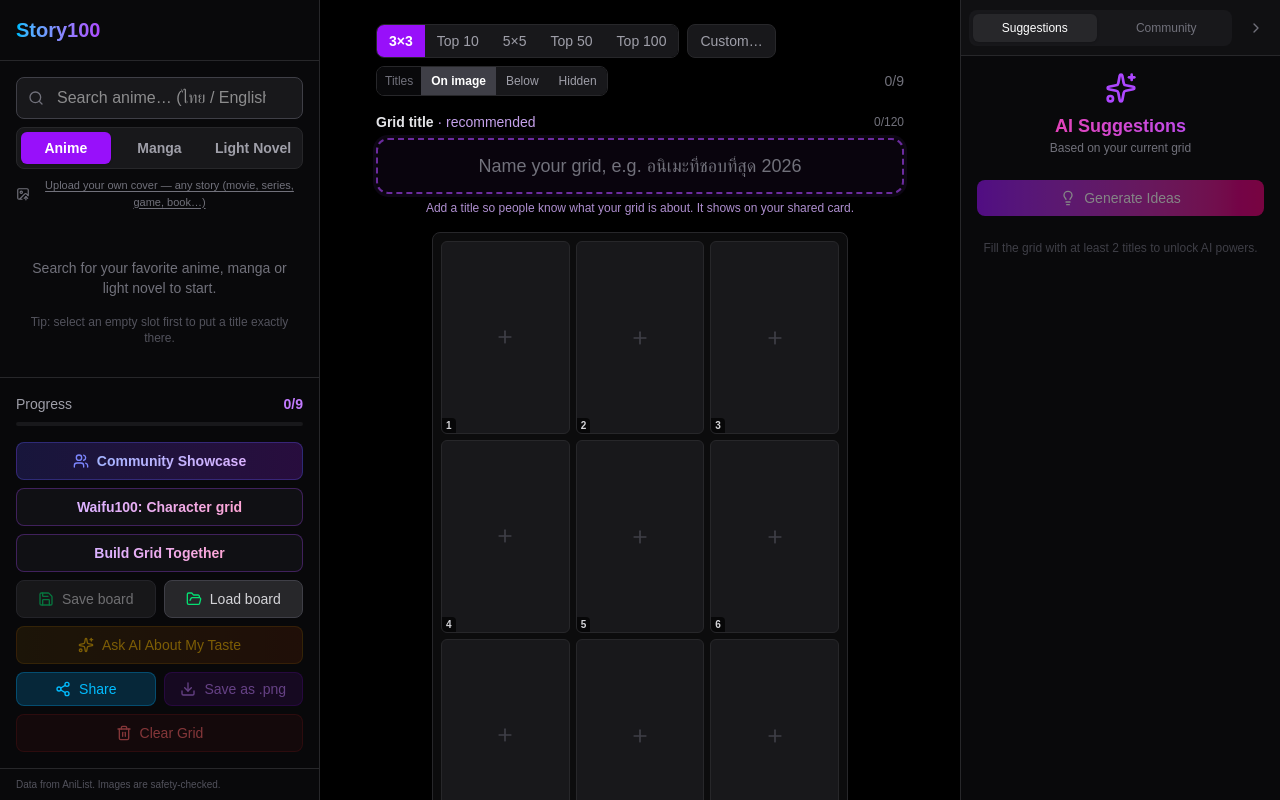
story100 UX at 1280px › a new board is 3x3, and 5x5 is offered
The image size is (1280, 800).
Click the button "5×5" at (515, 41), box left=491, top=25, right=539, bottom=57
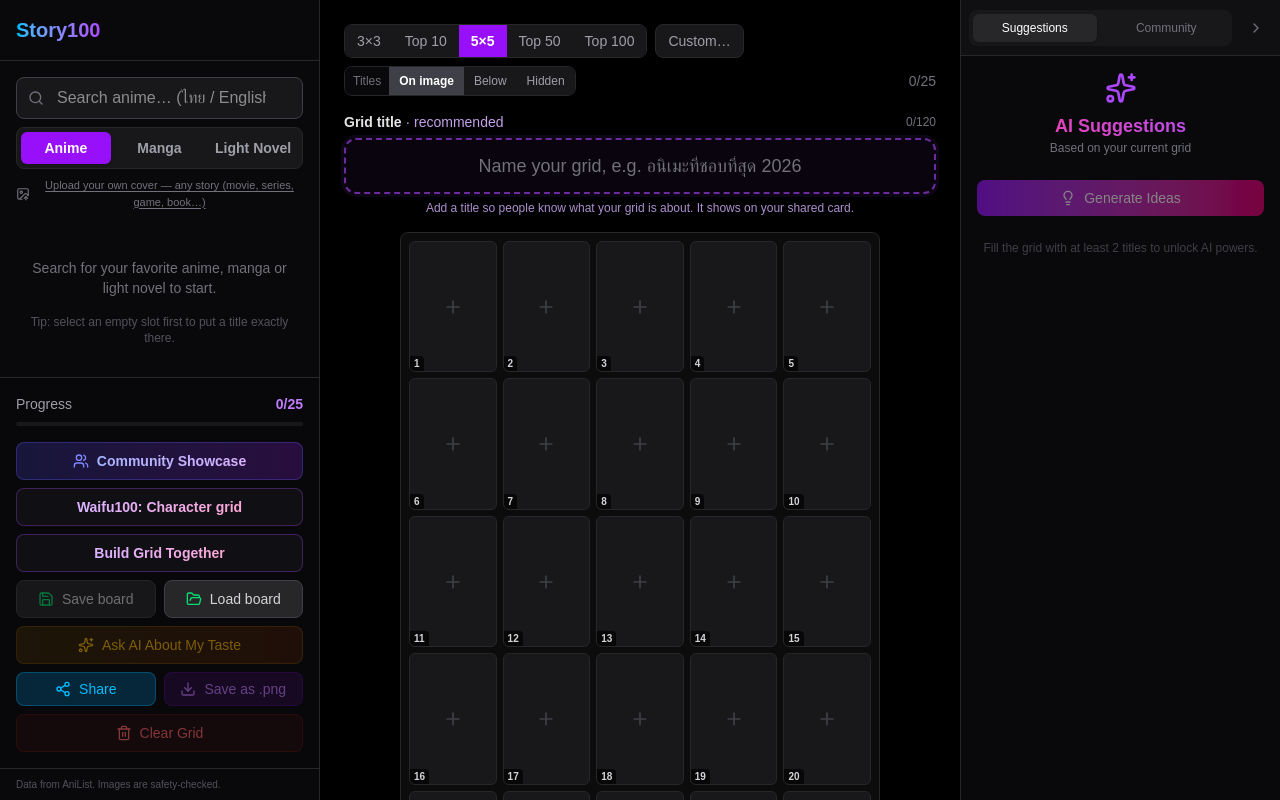
Expected: the text "0/25" in the row of "Progress" is shown, left=276, top=394, right=303, bottom=414
